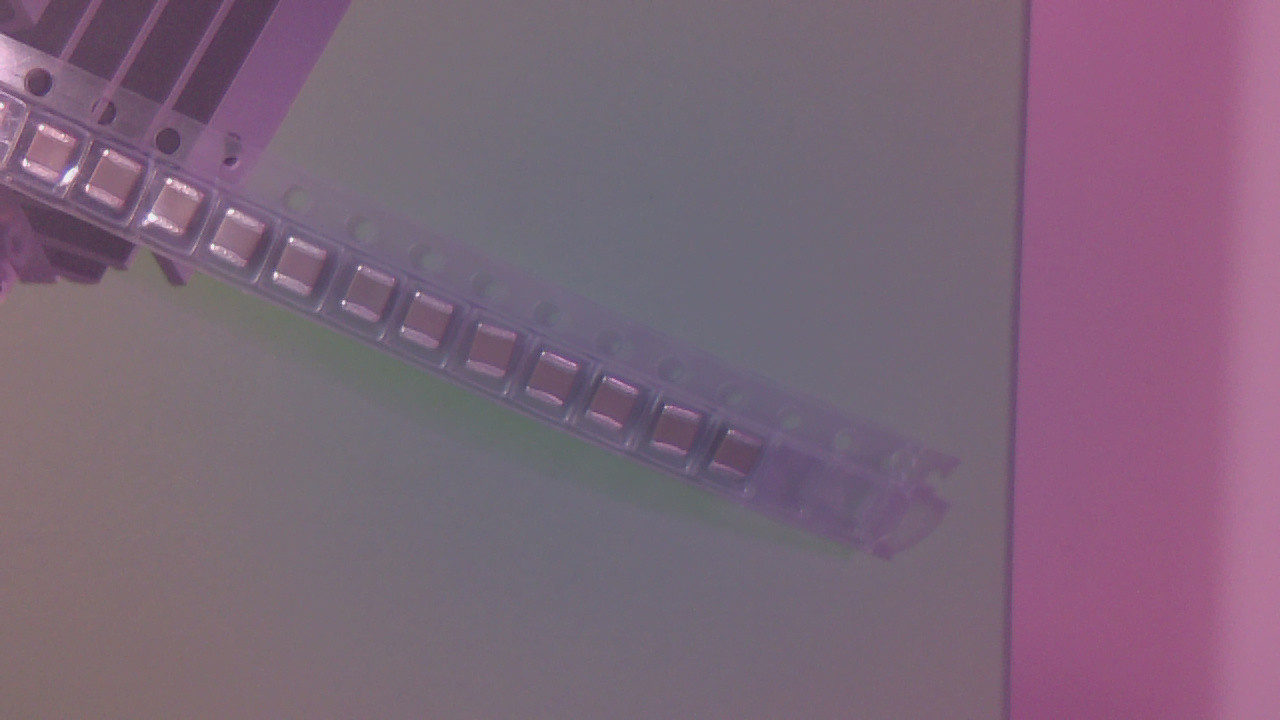Condensator: (90, 152, 151, 213), (213, 212, 271, 272), (150, 185, 209, 240), (346, 265, 402, 322), (29, 130, 82, 188), (472, 326, 526, 381), (406, 292, 456, 350), (277, 243, 330, 297), (533, 356, 589, 404), (656, 408, 706, 458), (592, 383, 639, 434), (717, 435, 758, 484)
